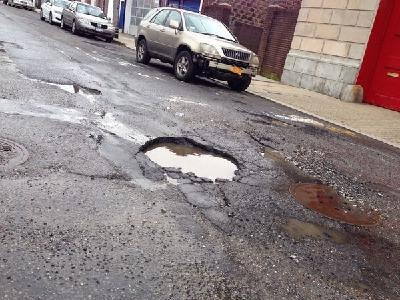pothole: (136, 133, 240, 184), (275, 213, 348, 244), (239, 107, 299, 128), (55, 80, 103, 97)
